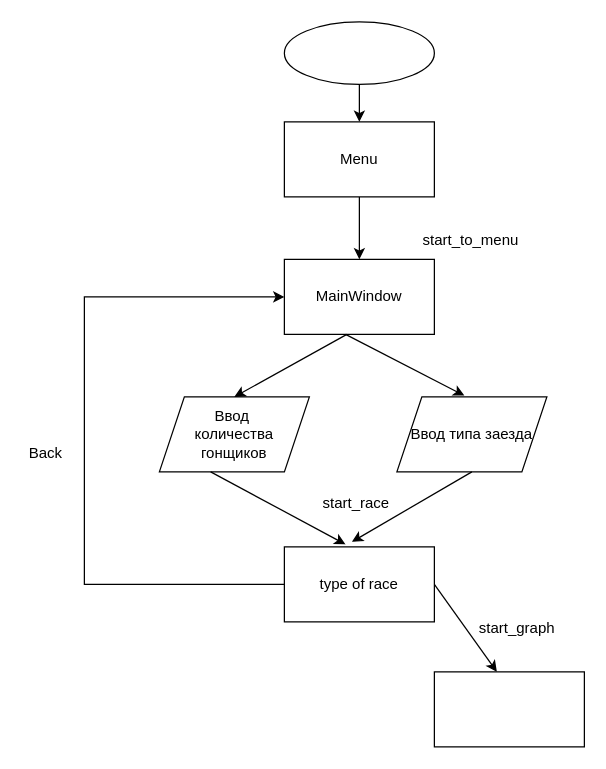
Some shapes in this 606 by 769 pixel diagram are drawn without their labels. Each missing label, with the centre of its shape:
Draw_graph: point 508,709
Начало: point 358,52
